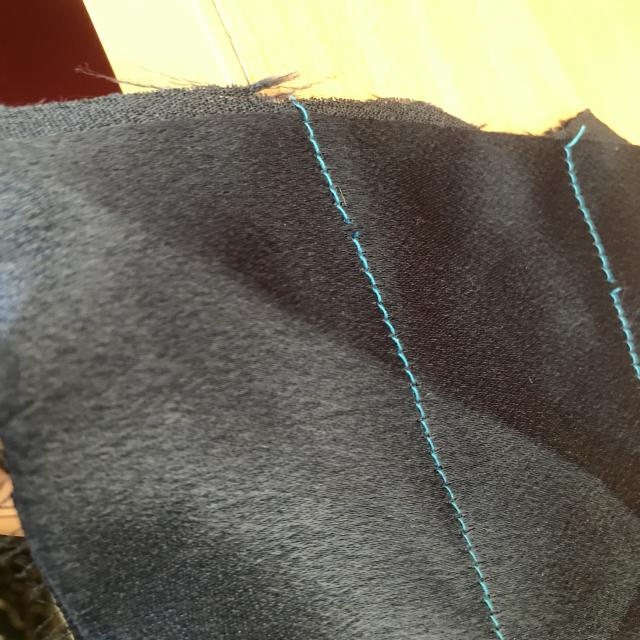broken: (317, 200, 395, 274)
good: (355, 297, 464, 491), (428, 516, 525, 615)
